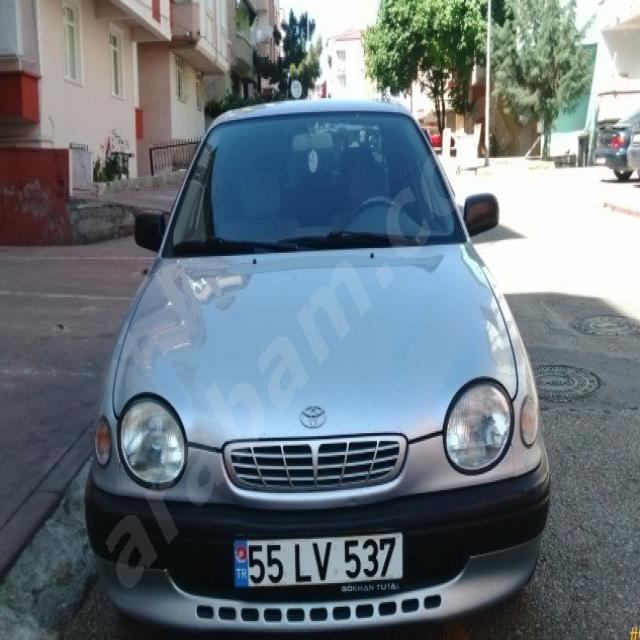license_plate: (232, 529, 404, 588)
